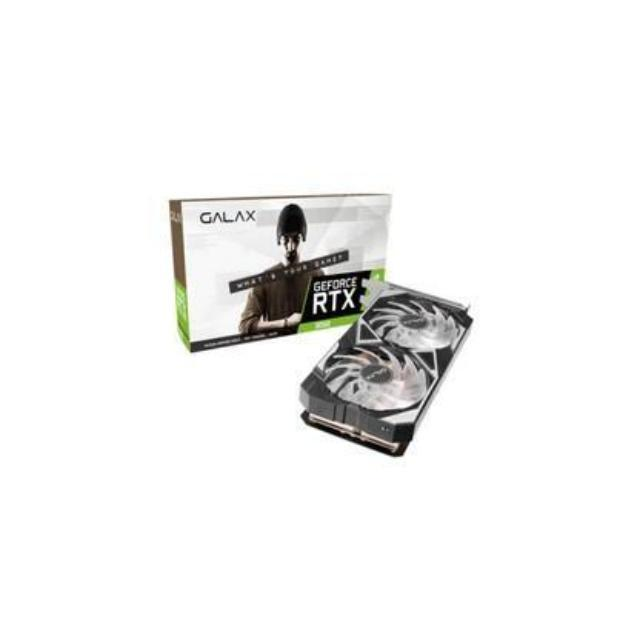GPU: (304, 272, 473, 456)
